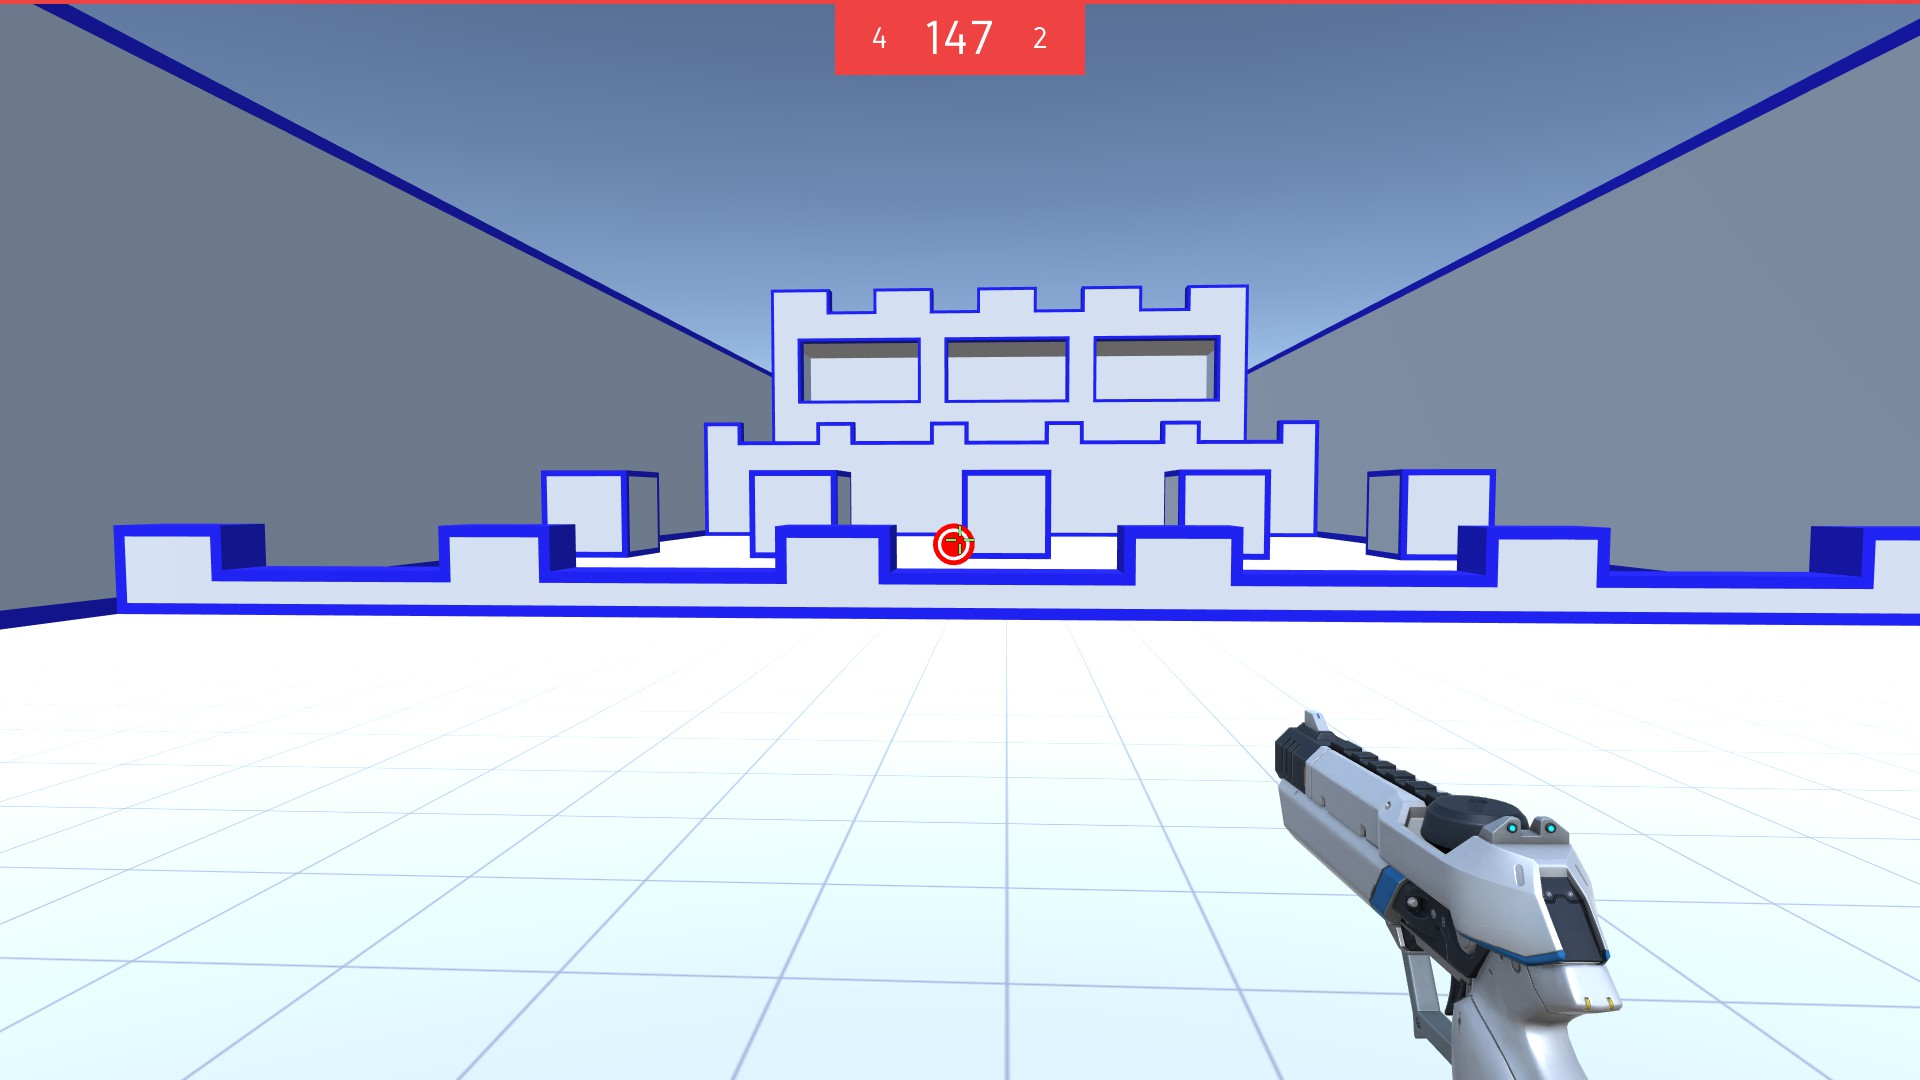target: (932, 524, 977, 566)
